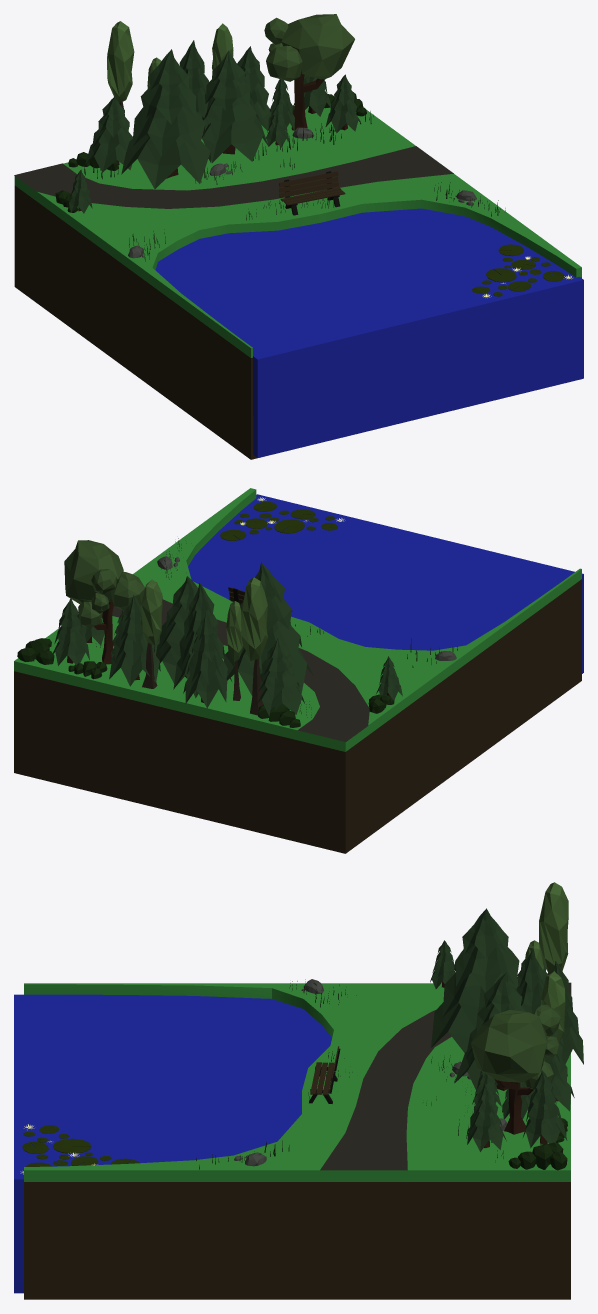
The model's file is Pond.obj.
3 renders of one model, top to bottom at view 1: azimuth 30°, elevation 25°; view 2: azimuth 150°, elevation 25°; view 3: azimuth 270°, elevation 25°, orthographic. The views are drawn at different scales.
Parts seen in each view (by area): view 1: lake, grass, path7, Cone010, GeoSphere018, Cone014, Cone011, GeoSphere019, Box026, Cone012, Cone013, Cone016 (+5 smaller); view 2: grass, lake, GeoSphere018, path7, Cone010, Cone015, GeoSphere019, Cone012, Cone011, Cone014, Cone013, GeoSphere020 (+6 smaller); view 3: grass, lake, path7, GeoSphere018, Cone010, GeoSphere019, Cone019, Cone014, Cone016, Cone013, Cone015, GeoSphere033 (+4 smaller).
Part boxes in pixels (x1,y1,x2,y2): lake: (155,208,583,457); grass: (14,106,581,459); path7: (14,146,453,208); Cone010: (121,49,211,189); GeoSphere018: (264,14,354,130); Cone014: (201,50,268,162); Cone011: (85,95,132,172); GeoSphere019: (107,21,134,115); Box026: (279,171,345,215); Cone012: (237,46,271,130); Cone013: (179,40,209,139); Cone016: (325,74,361,133); grass: (14,488,581,853); lake: (188,494,583,673); GeoSphere018: (64,540,144,664); path7: (112,599,369,741); Cone010: (224,562,313,695); Cone015: (183,611,227,708); GeoSphere019: (241,577,267,715); Cone012: (109,595,160,686); Cone011: (255,638,304,716); Cone014: (156,576,224,685); Cone013: (173,582,231,697); GeoSphere020: (141,579,162,688); grass: (24,983,570,1299); lake: (14,994,331,1293); path7: (320,982,571,1170); GeoSphere018: (471,1004,560,1134); Cone010: (431,908,519,1052); GeoSphere019: (539,882,568,974); Cone019: (523,1070,567,1147); Cone014: (454,972,525,1090); Cone016: (467,1083,506,1151); Cone013: (516,950,546,1013); Cone015: (553,961,583,1064); GeoSphere033: (508,1142,567,1170).
Bounding box in the file's own units: 342 × 242 × 438.
